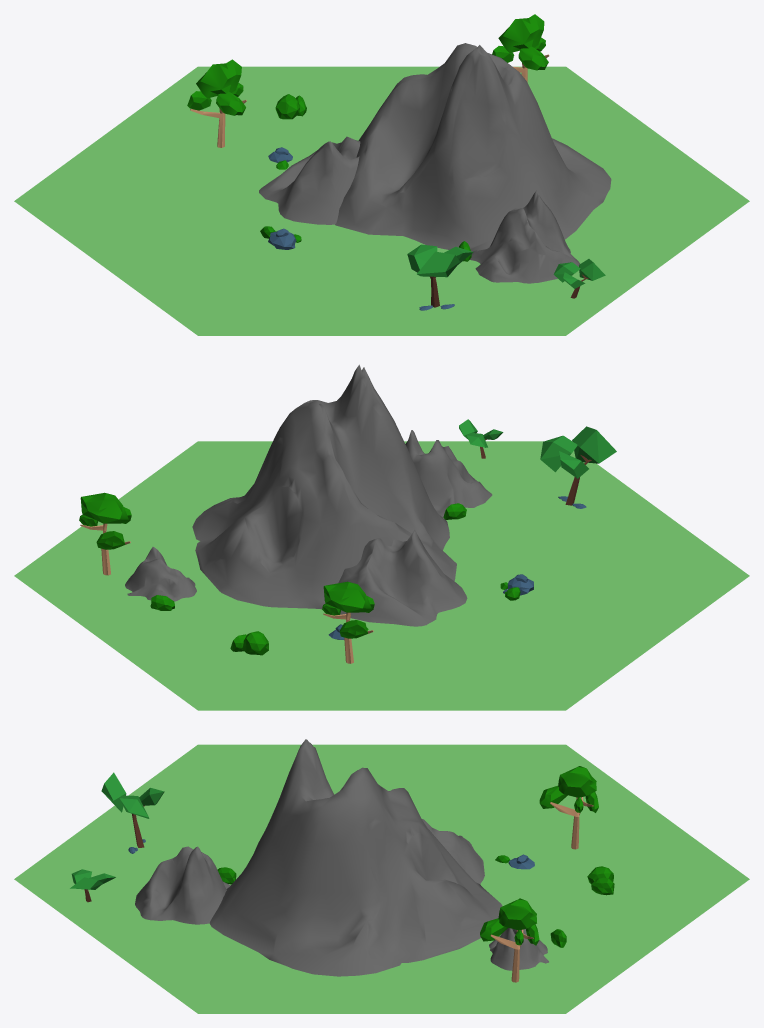
File: Hexagone ressource pierre.fbx
The picture shows the model from 3 angles, top to bottom: view 1: azimuth 30°, elevation 25°; view 2: azimuth 150°, elevation 25°; view 3: azimuth 270°, elevation 25°; orthographic projection.
Parts seen in each view (by area): view 1: Cylinder; view 2: Cylinder; view 3: Cylinder.
Boxes of the visible parts, x1,y1,x2,y2 form: Cylinder: [14, 14, 749, 335]; Cylinder: [14, 364, 749, 710]; Cylinder: [14, 739, 749, 1013].
Bounding box in the file's own units: 17.32 × 20 × 5.37.
